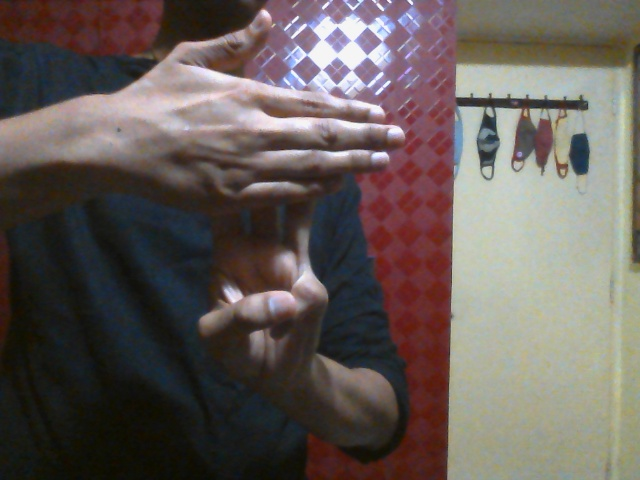M: (122, 9, 405, 380)
